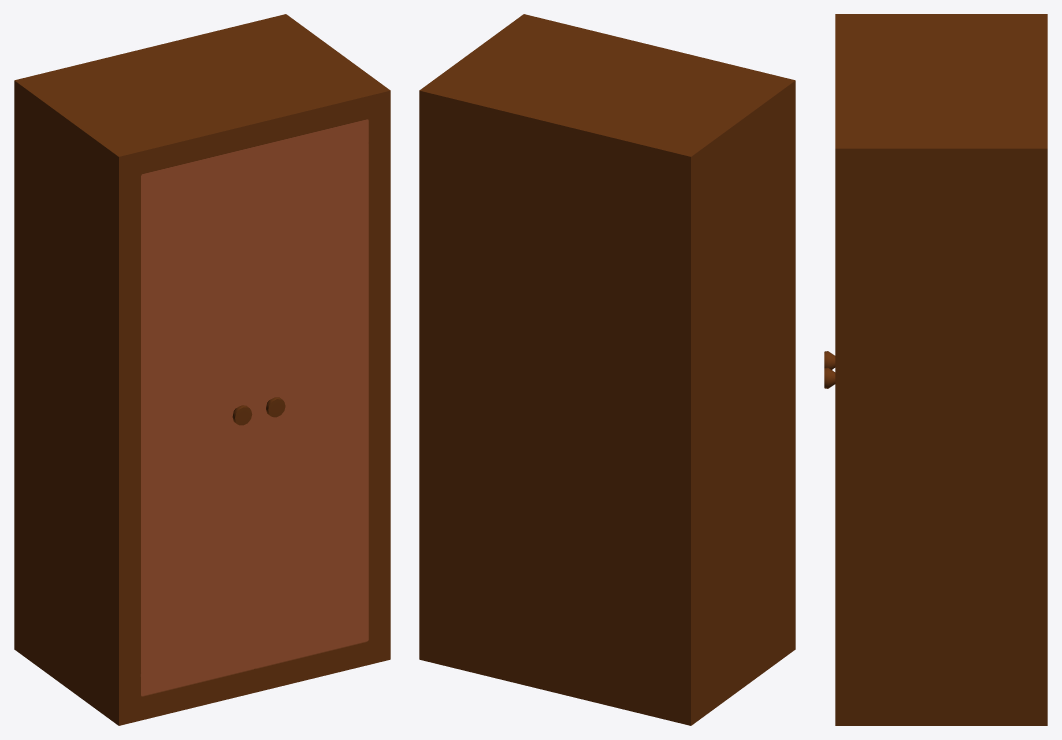
The model's file is closet1_wood.glb.
3 views of the same model, side by side, from view 1: azimuth 30°, elevation 25°; view 2: azimuth 150°, elevation 25°; view 3: azimuth 270°, elevation 25° (orthographic).
Visible parts, largest first — view 1: Box002; view 2: Box002; view 3: Box002.
Part boxes in pixels (x1,y1,x2,y2): Box002: (14,14,390,725); Box002: (419,14,795,725); Box002: (824,14,1047,725).
Size of the model in its own units: 0.12 by 0.24 by 0.0842.
Materials: 1 (1 with a texture image).
